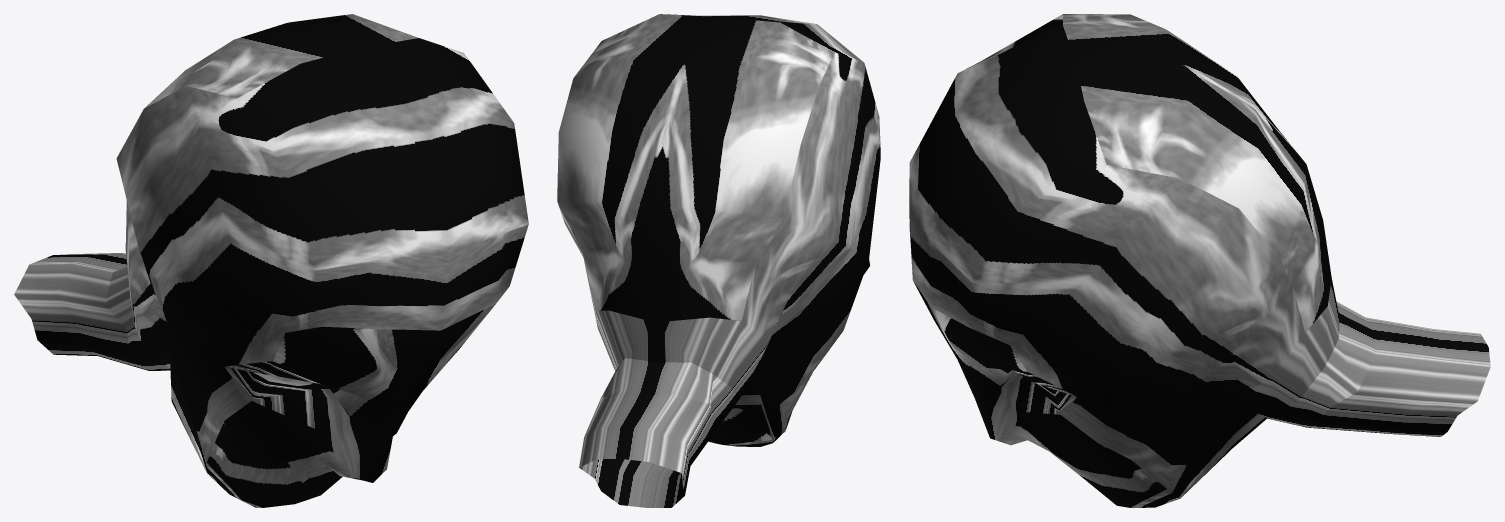
The picture shows the model from 3 angles, left to right: view 1: azimuth 30°, elevation 25°; view 2: azimuth 150°, elevation 25°; view 3: azimuth 270°, elevation 25°; orthographic projection. The views are drawn at different scales.
Visible parts, largest first — view 1: head; view 2: head; view 3: head.
Boxes of the visible parts, x1=… form: head: x1=14, y1=14, x2=528, y2=507; head: x1=557, y1=14, x2=880, y2=507; head: x1=909, y1=14, x2=1490, y2=507.
Size of the model in its own units: 28.76 by 41.27 by 46.8.
2 materials, 1 textured.
